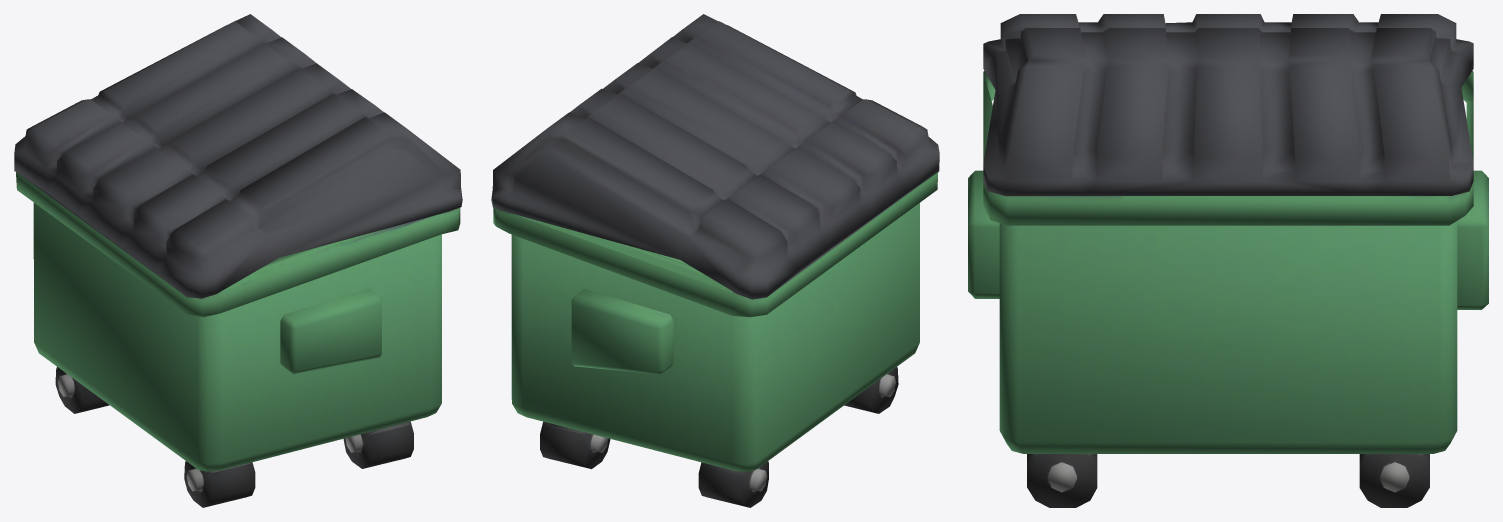
File: dumpster.glb
3 renders of one model, left to right at view 1: azimuth 30°, elevation 25°; view 2: azimuth 150°, elevation 25°; view 3: azimuth 270°, elevation 25°, orthographic. The views are drawn at different scales.
Parts seen in each view (by area): view 1: tripo_node_42526fec-582f-4711-8148-3269163bf460; view 2: tripo_node_42526fec-582f-4711-8148-3269163bf460; view 3: tripo_node_42526fec-582f-4711-8148-3269163bf460.
Part boxes in pixels (x1=…): tripo_node_42526fec-582f-4711-8148-3269163bf460: x1=14, y1=14, x2=462, y2=507; tripo_node_42526fec-582f-4711-8148-3269163bf460: x1=491, y1=14, x2=939, y2=507; tripo_node_42526fec-582f-4711-8148-3269163bf460: x1=968, y1=14, x2=1488, y2=507.
Bounding box in the file's own units: 0.7871 × 0.9238 × 0.998.
1 material, 1 textured.
